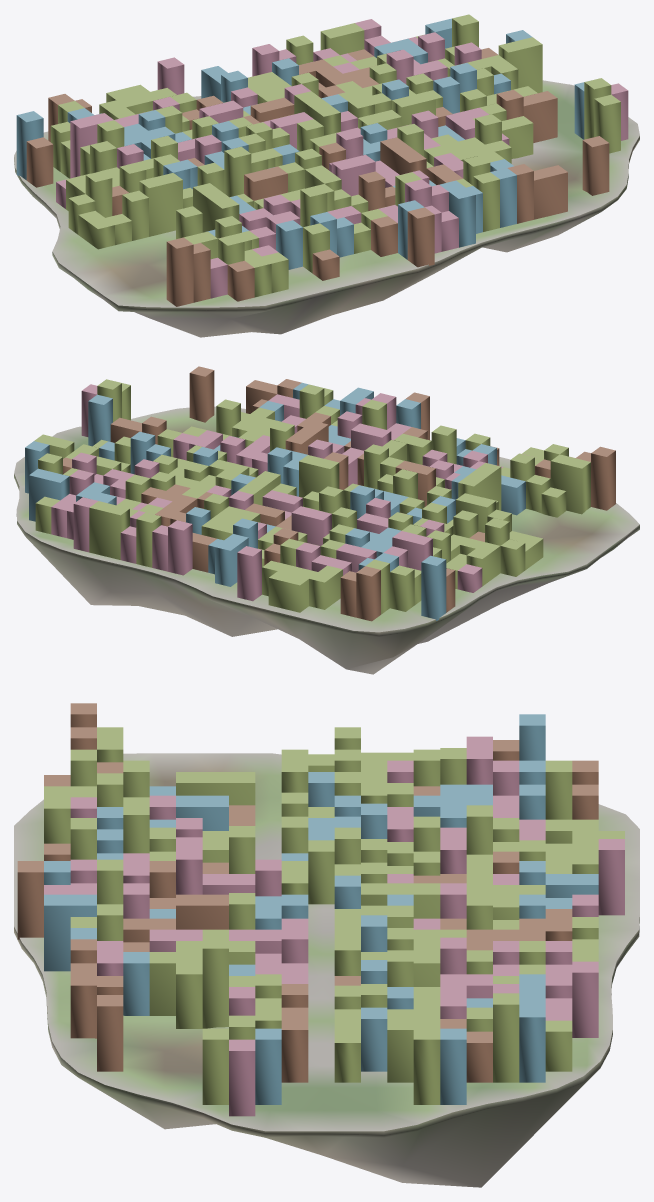
Rendered from SKY-066.lod1.glb.
3 views of the same model, one above another, from view 1: azimuth 30°, elevation 25°; view 2: azimuth 150°, elevation 25°; view 3: azimuth 270°, elevation 25° (orthographic). The views are drawn at different scales.
Parts seen in each view (by area): view 1: warren_hull, deck, rock; view 2: warren_hull, rock, deck; view 3: warren_hull, deck, rock.
Part boxes in pixels (x1,y1,x2,y2): warren_hull: (16, 14, 628, 306); deck: (14, 80, 639, 307); rock: (14, 136, 639, 337); warren_hull: (25, 366, 615, 621); rock: (14, 474, 639, 674); deck: (14, 406, 639, 632); warren_hull: (17, 703, 624, 1116); deck: (14, 753, 639, 1131); rock: (14, 917, 639, 1187).
Size of the model in its own units: 203 by 59.2 by 142.
